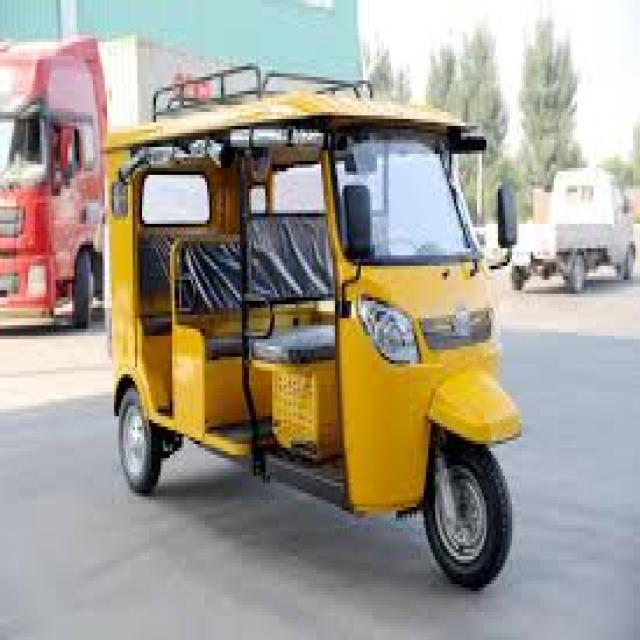tuktuk: (91, 36, 571, 630)
